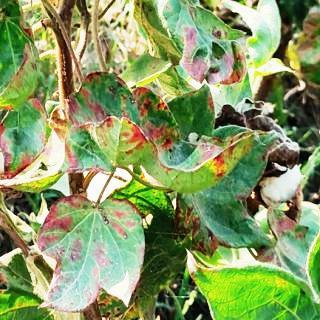blight: (48, 70, 249, 178), (37, 189, 152, 311), (178, 19, 241, 75)
curl: (51, 74, 241, 172), (171, 8, 253, 86)
